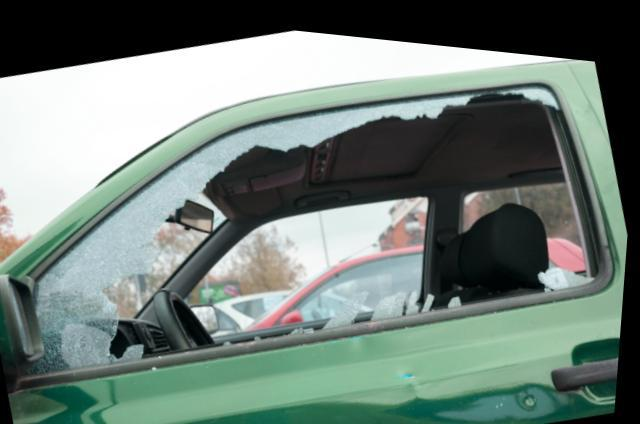glass shatter: (27, 72, 604, 376)
